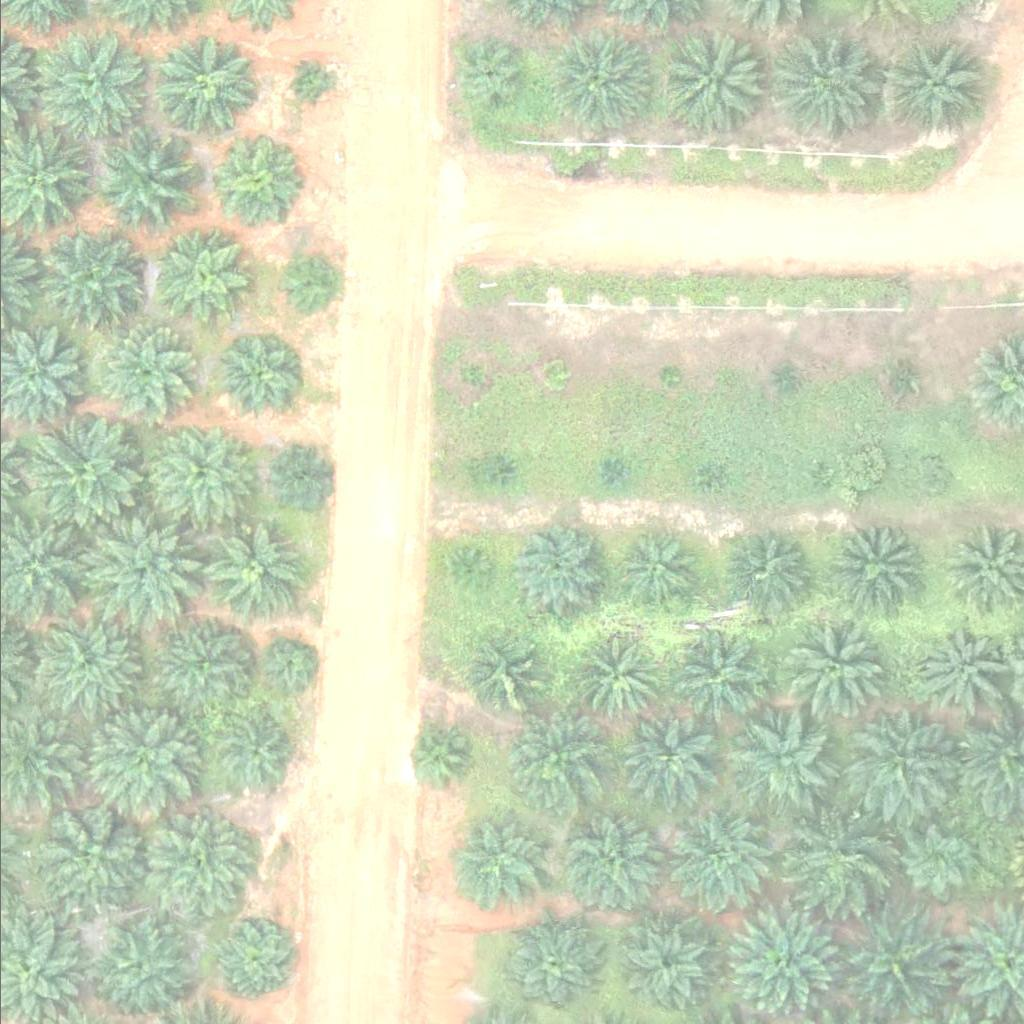Kelapa_Sawit: (20, 415, 146, 540), (136, 803, 262, 928), (25, 791, 151, 916), (18, 599, 143, 724), (716, 905, 830, 1018), (32, 223, 146, 336), (837, 902, 950, 1015), (84, 512, 197, 625), (846, 710, 960, 822), (499, 512, 612, 624), (770, 31, 883, 143), (39, 29, 152, 141), (81, 701, 194, 813), (730, 709, 831, 809), (781, 618, 882, 718), (669, 626, 770, 726), (502, 713, 603, 813), (557, 807, 658, 907), (447, 812, 548, 912), (882, 33, 983, 133), (91, 319, 192, 419), (150, 423, 251, 523), (202, 523, 303, 623), (148, 612, 249, 712), (787, 814, 887, 914), (666, 807, 766, 907), (499, 918, 599, 1018), (663, 28, 763, 128), (549, 33, 649, 133), (157, 36, 257, 136), (99, 131, 199, 231), (90, 917, 190, 1017), (612, 530, 701, 618), (619, 915, 707, 1003), (721, 527, 809, 615), (569, 636, 657, 724), (159, 234, 247, 322), (210, 333, 298, 421), (617, 716, 705, 803), (916, 628, 1004, 715), (827, 521, 915, 608), (205, 140, 293, 227), (451, 39, 527, 114), (900, 823, 976, 898), (217, 924, 293, 999), (464, 643, 539, 718), (215, 715, 290, 790), (403, 722, 466, 785), (265, 445, 328, 508), (272, 255, 335, 317), (261, 640, 311, 690), (907, 459, 945, 497), (452, 552, 490, 590), (289, 67, 327, 104), (805, 468, 830, 493), (689, 462, 714, 487), (885, 368, 910, 393), (772, 368, 797, 393), (654, 364, 679, 389), (542, 360, 567, 385), (458, 363, 483, 388), (600, 463, 625, 488), (490, 456, 515, 481)
